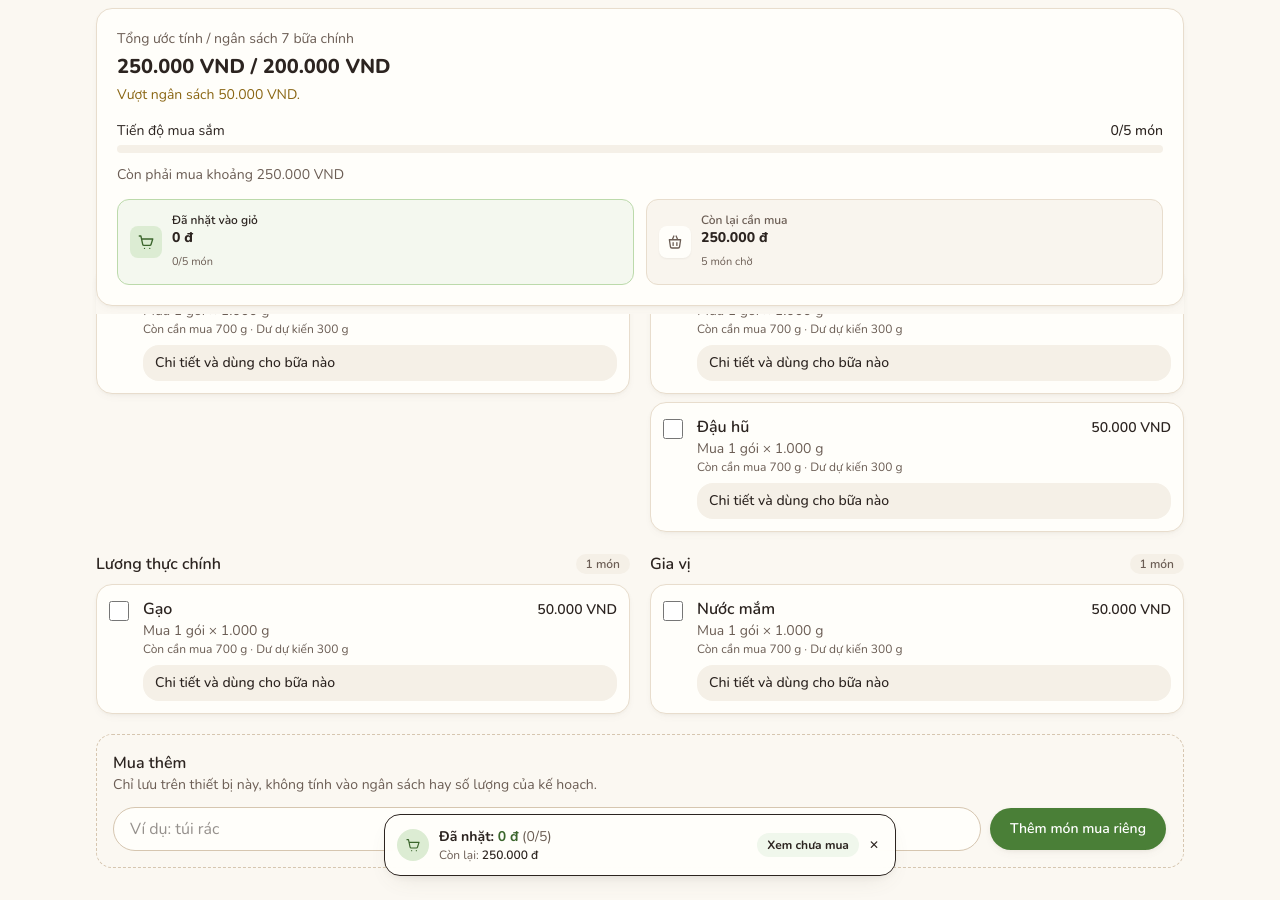
ShoppingListPage › counts down the money still owed as items are ticked
(page scrolled)
Expected: the text "Còn phải mua khoảng 250.000 VND" is shown, [117, 164, 344, 184]
Step 1. Click the checkbox named "Gạo" → [119, 611], box [109, 601, 129, 621]
(page scrolled)
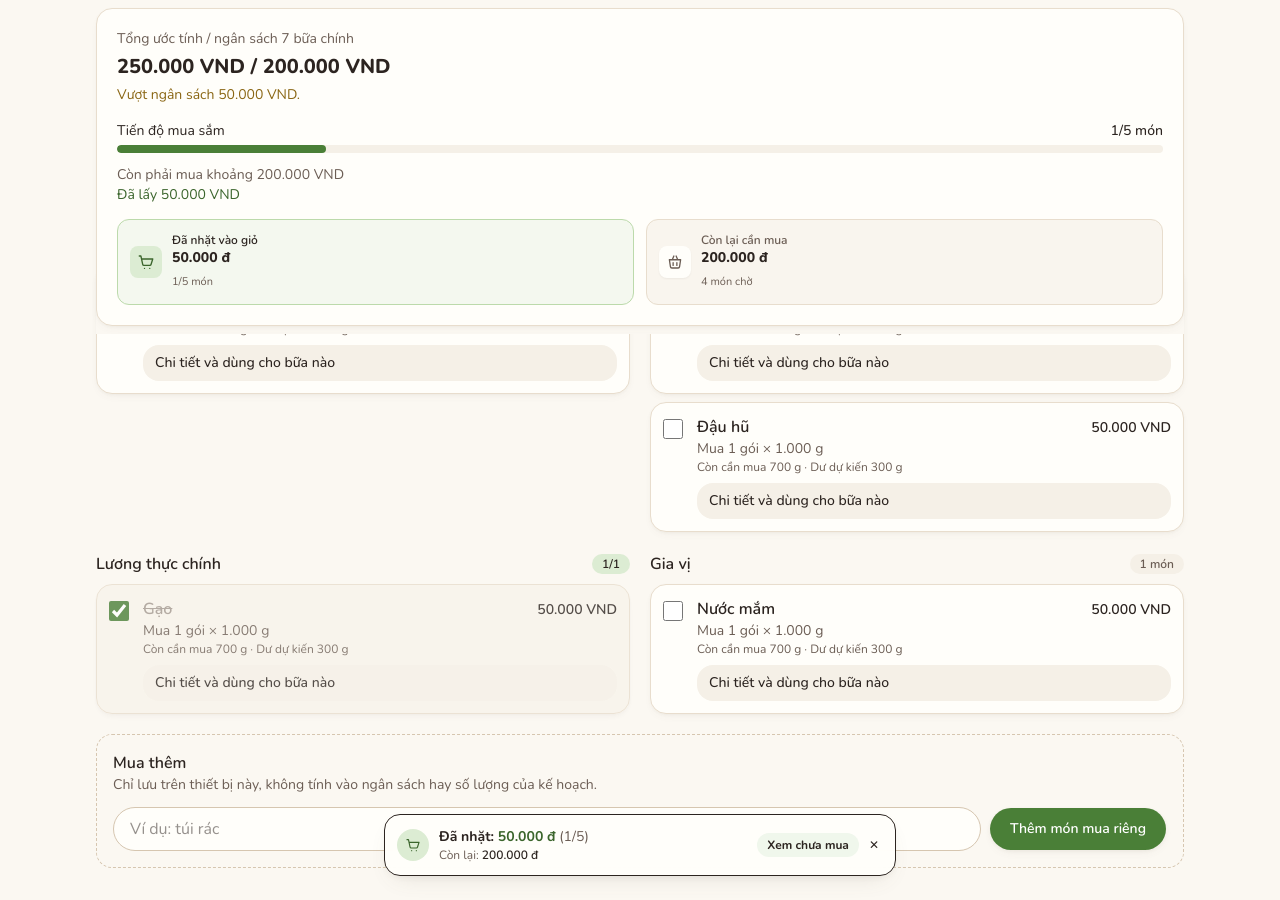
Expected: the text "250.000 VND / 200.000 VND" is shown, [117, 53, 390, 80]
Expected: the text "Còn phải mua khoảng 200.000 VND" is shown, [117, 164, 344, 184]
Expected: the text "Đã lấy 50.000 VND" is shown, [117, 184, 240, 204]
